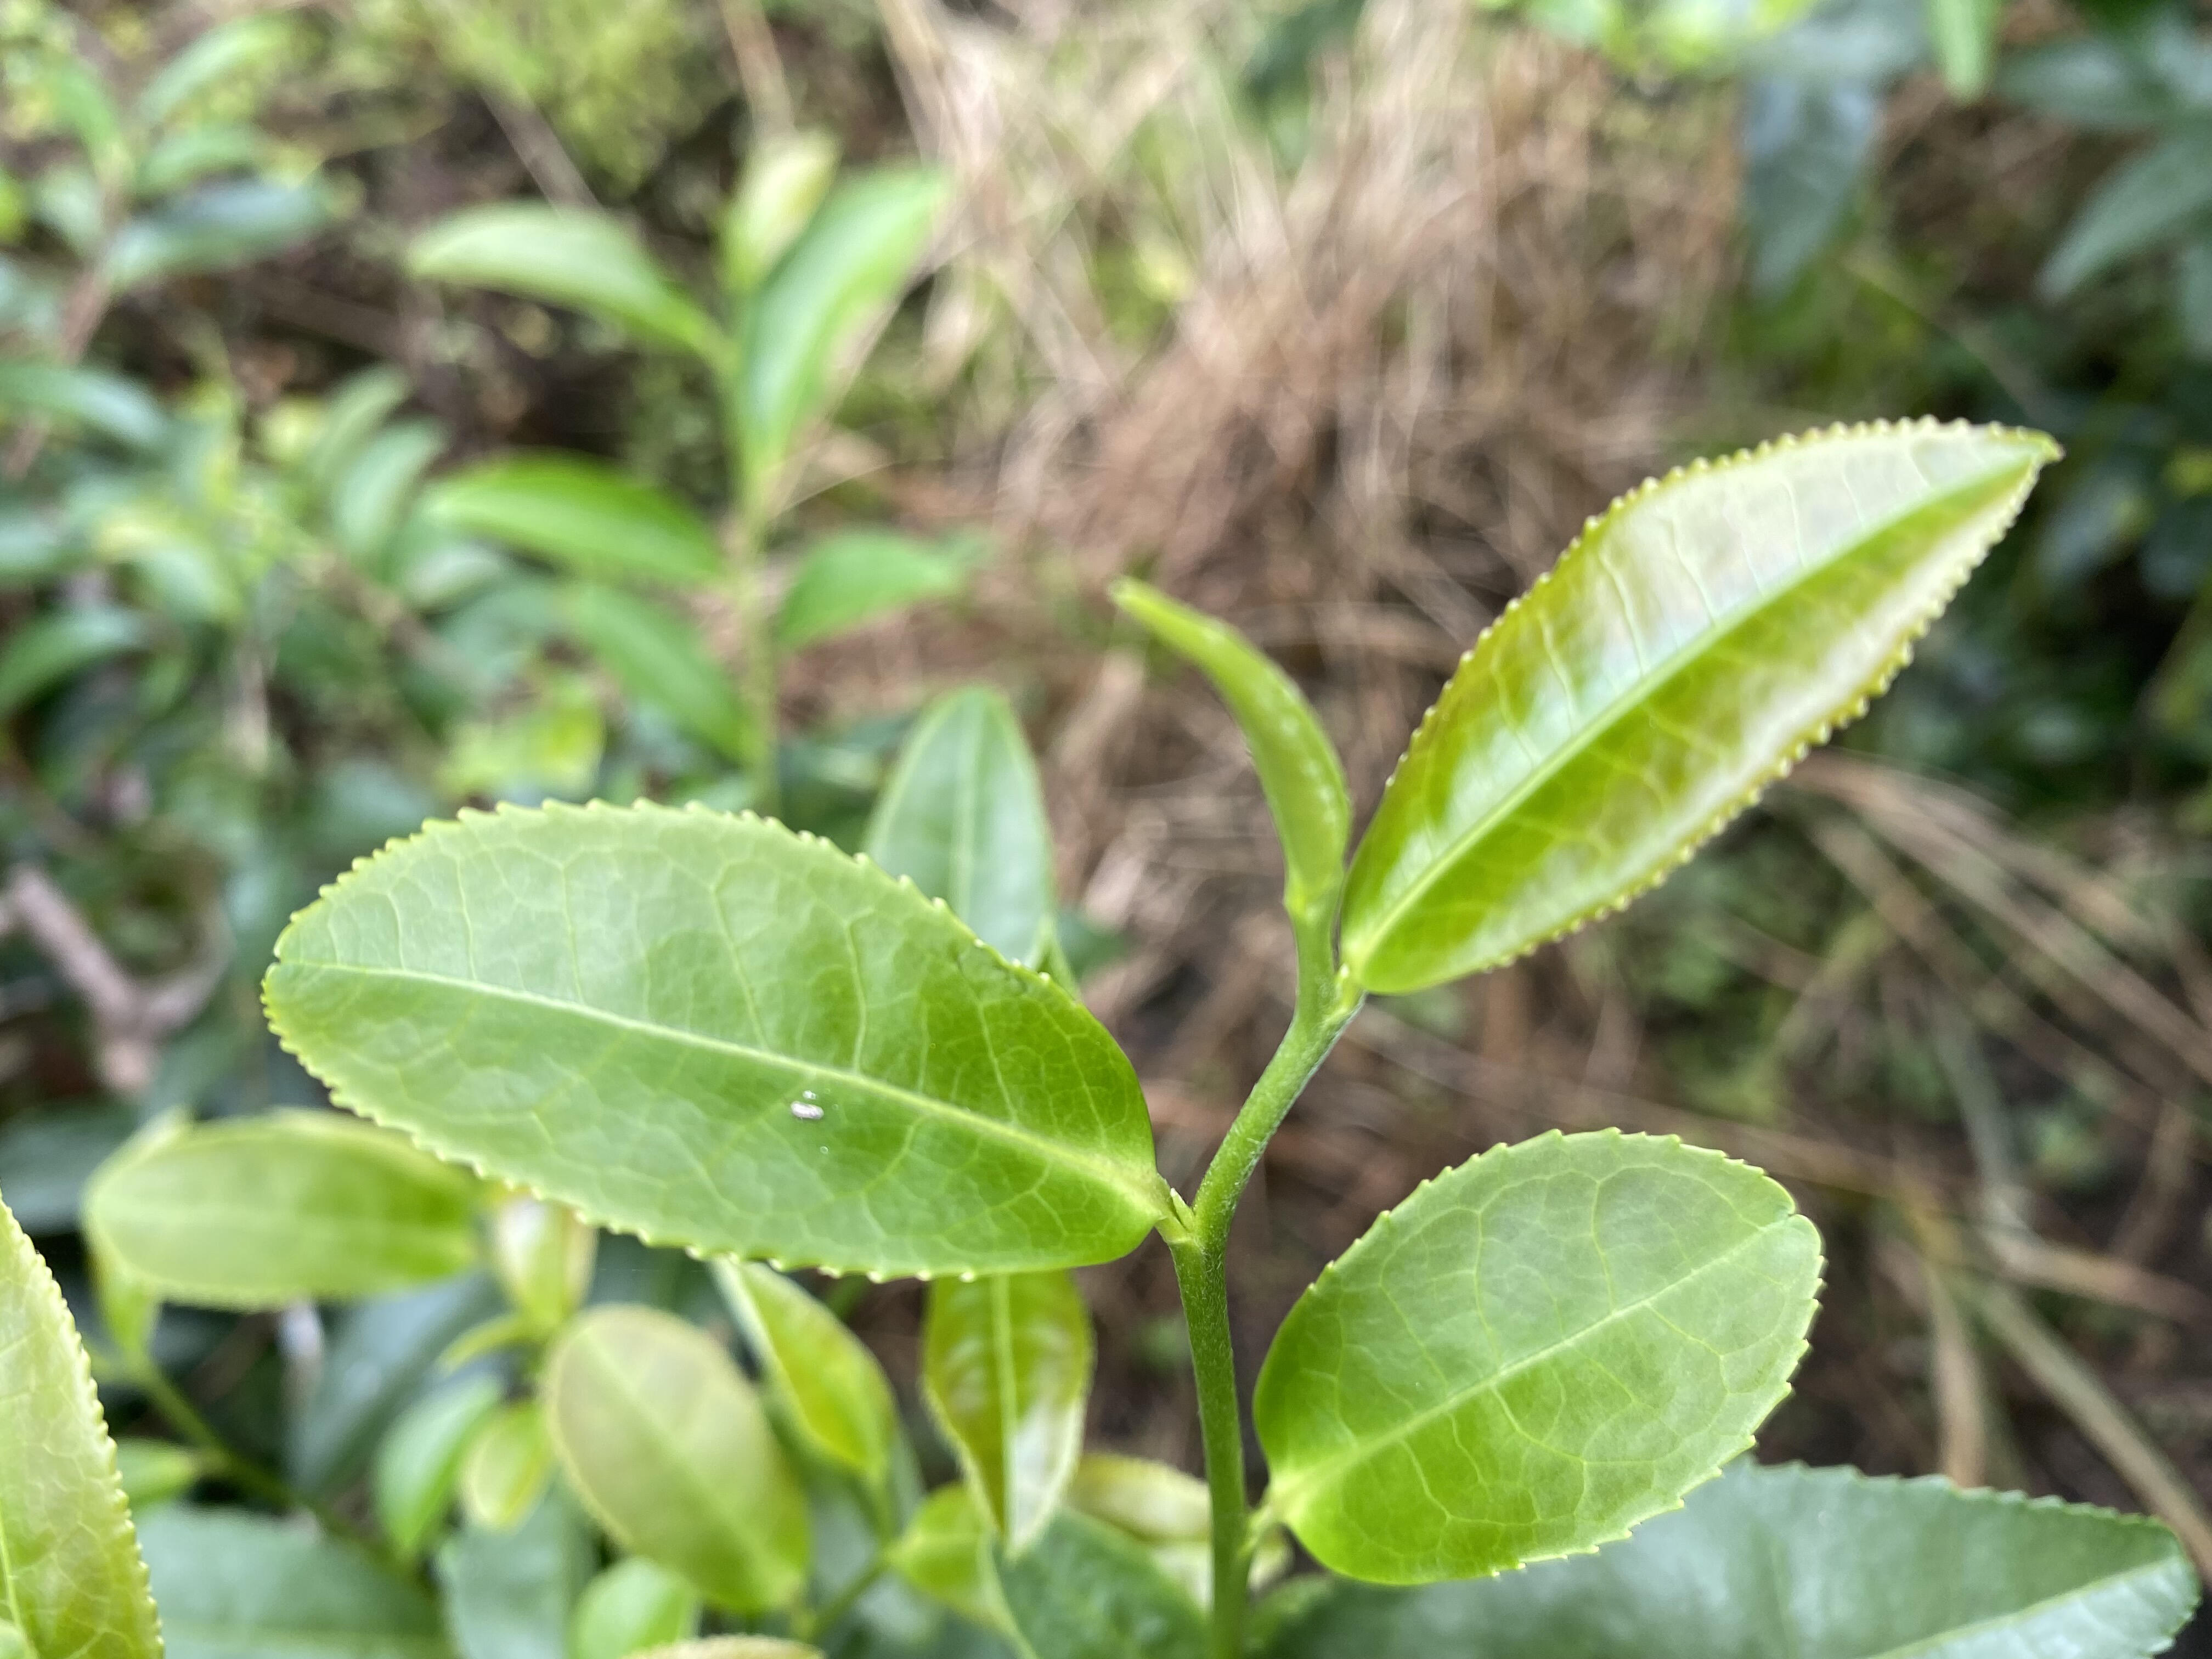healthy: (1339, 415, 2060, 1000), (1251, 1127, 1827, 1586)
tanju_low: (258, 796, 1160, 1281)
